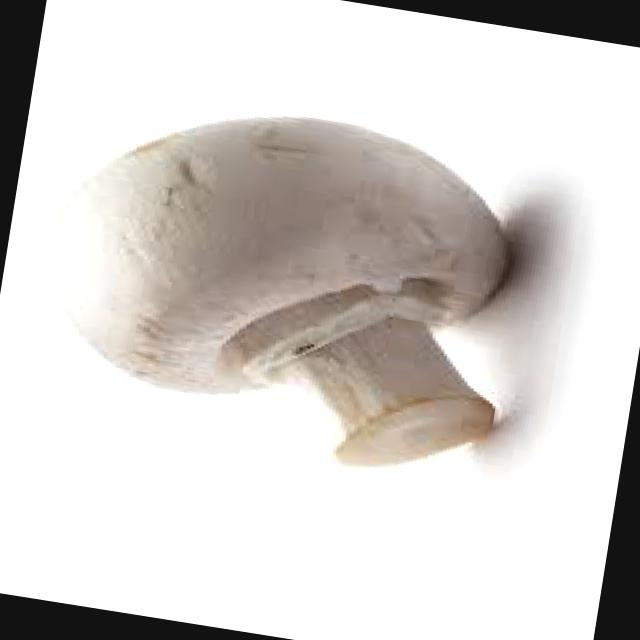Agaricus bisporus: (22, 79, 534, 486)
